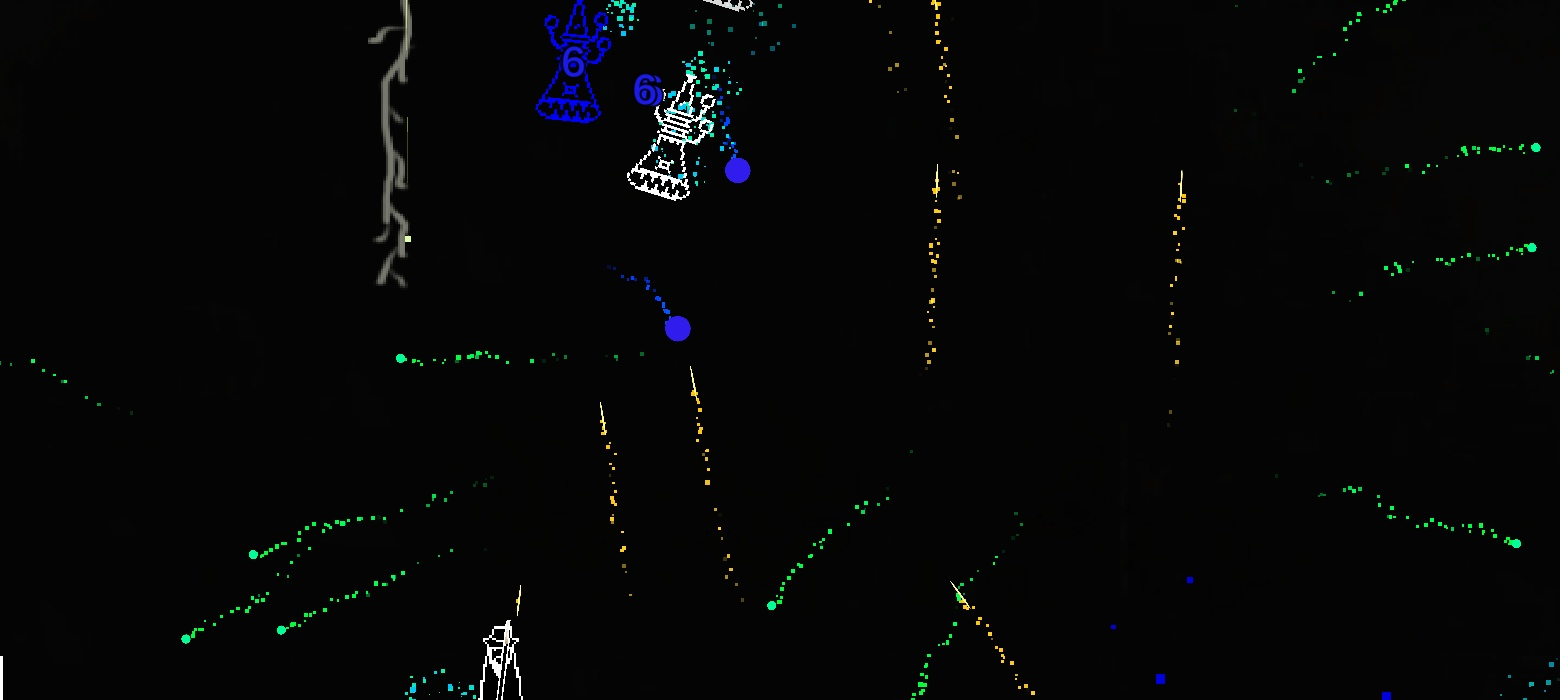enemy: (627, 74, 715, 201), (536, 1, 611, 123)
